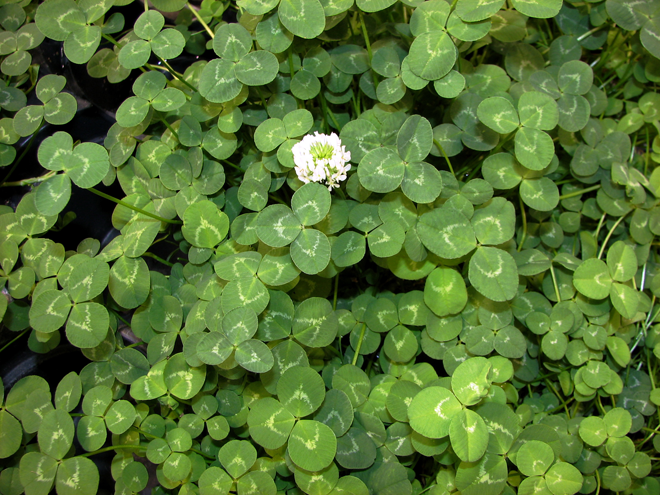clover: (415, 196, 521, 304), (245, 362, 340, 473), (407, 355, 493, 464), (26, 255, 114, 350), (358, 112, 445, 205), (252, 181, 334, 277), (474, 87, 558, 173), (196, 21, 280, 104), (20, 407, 98, 495), (34, 130, 110, 214), (195, 303, 275, 376), (572, 238, 640, 318), (114, 8, 187, 68), (114, 69, 188, 127), (76, 384, 138, 452), (515, 437, 586, 495)
clover blossom white: (289, 129, 353, 190)
